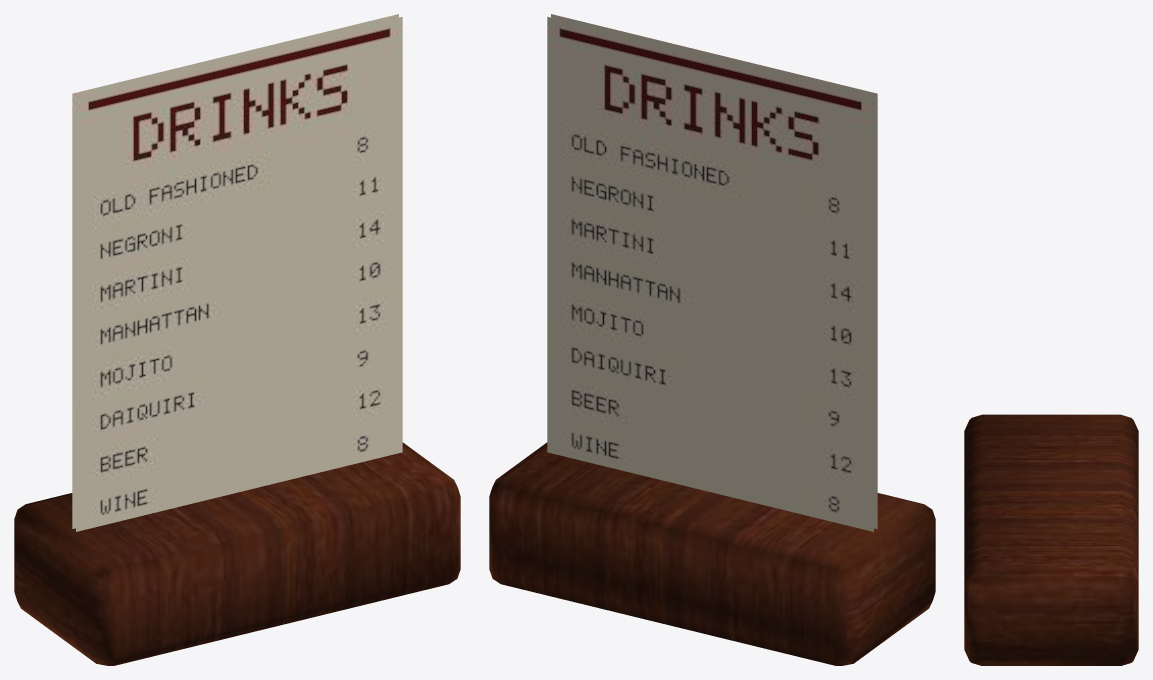
File: menu_stand.glb
The picture shows the model from 3 angles, left to right: view 1: azimuth 30°, elevation 25°; view 2: azimuth 150°, elevation 25°; view 3: azimuth 270°, elevation 25°; orthographic projection. The views are drawn at different scales.
Parts seen in each view (by area): view 1: Card, Block; view 2: Card, Block; view 3: Block.
Boxes of the visible parts, box(x1,y1,x2,y2) form: Card: box(72, 14, 402, 531); Block: box(14, 442, 460, 665); Card: box(547, 14, 877, 531); Block: box(489, 442, 935, 665); Block: box(964, 414, 1138, 665).
Bounding box in the file's own units: 0.09 × 0.127 × 0.04.
Materials: 2 (2 with a texture image).
